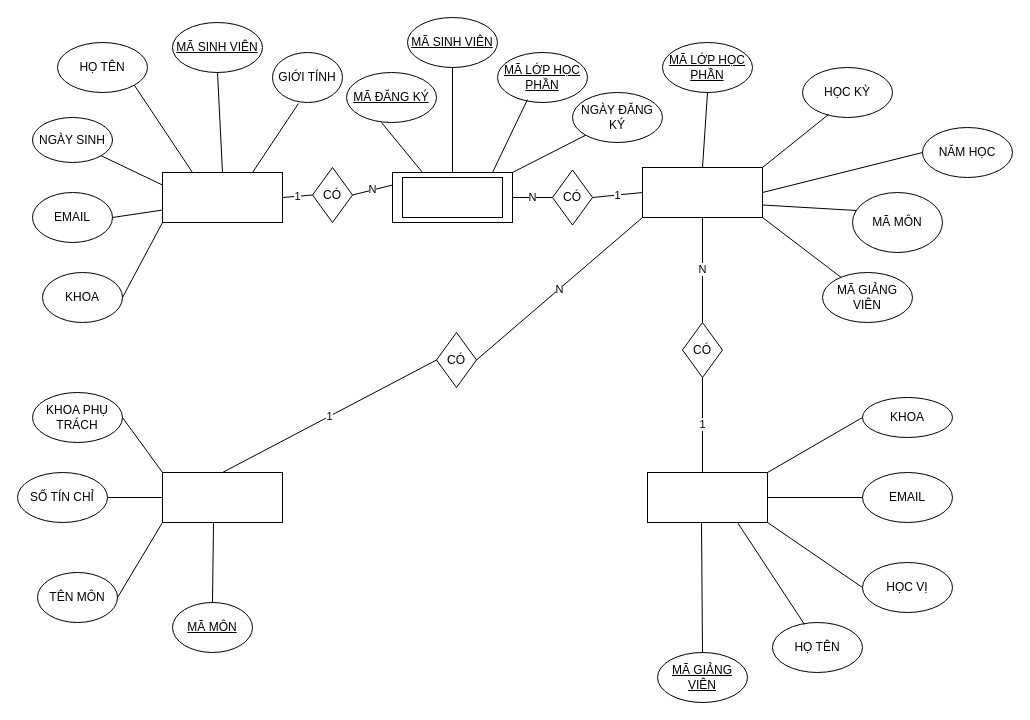
This 1030x720 diagram has some shape labels left out. Here are the shapes that lost their labels. From the top down, the centre of each, then its label:
At [222,197]: "SINH VIÊN".
At [452,197]: "ĐĂNG KÝ".
At [702,192]: "LỚP HỌC PHẦN".
At [222,497]: "MÔN HỌC".
At [707,497]: "GIẢNG VIÊN".
